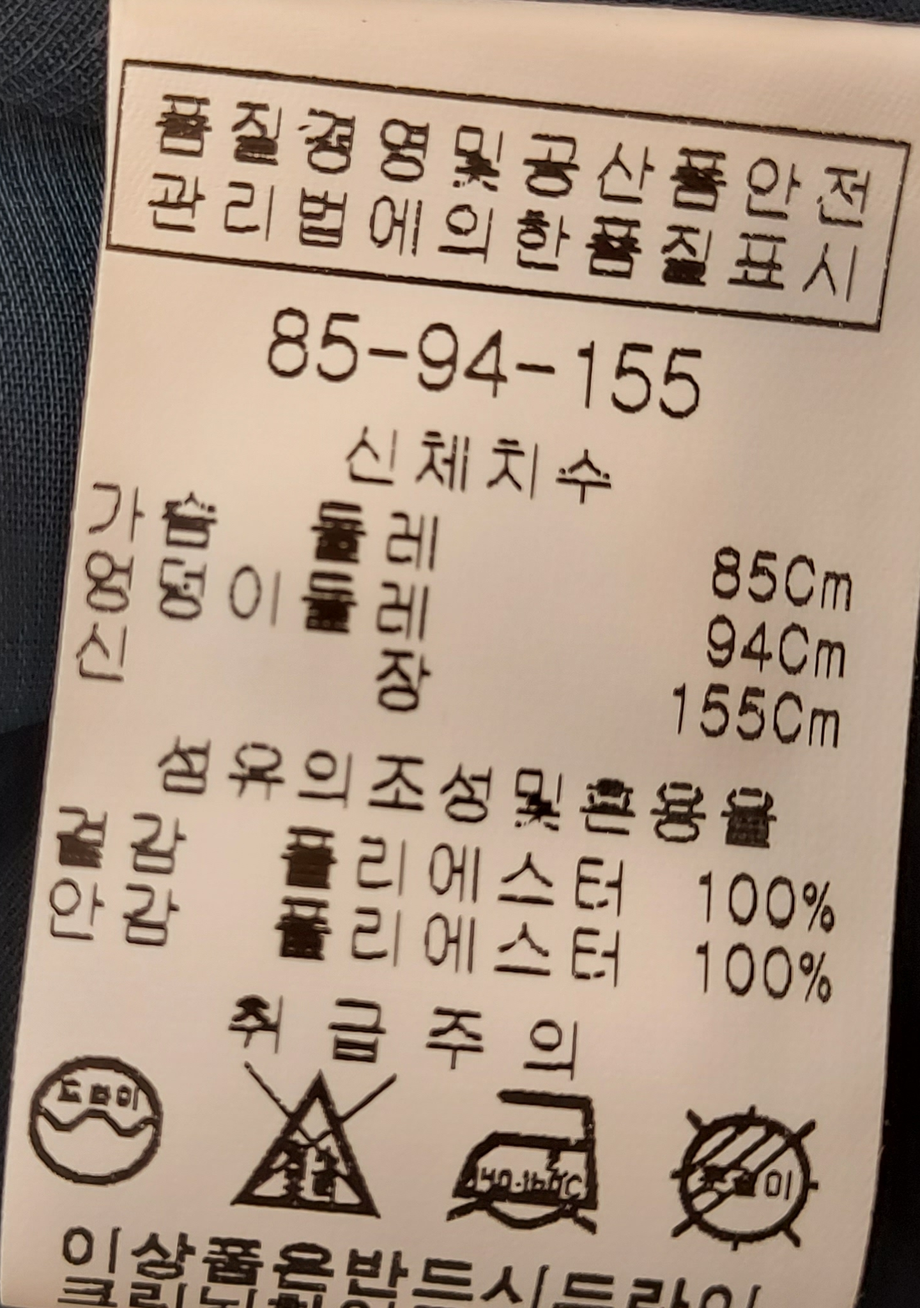KR_dry_clean: (21, 1049, 171, 1198)
KR_hang_dry_in_shade: (661, 1091, 824, 1268)
KR_iron_medium_temp_with_cloth: (443, 1080, 607, 1253)
KR_no_chlorine_bleach: (225, 1063, 395, 1224)
